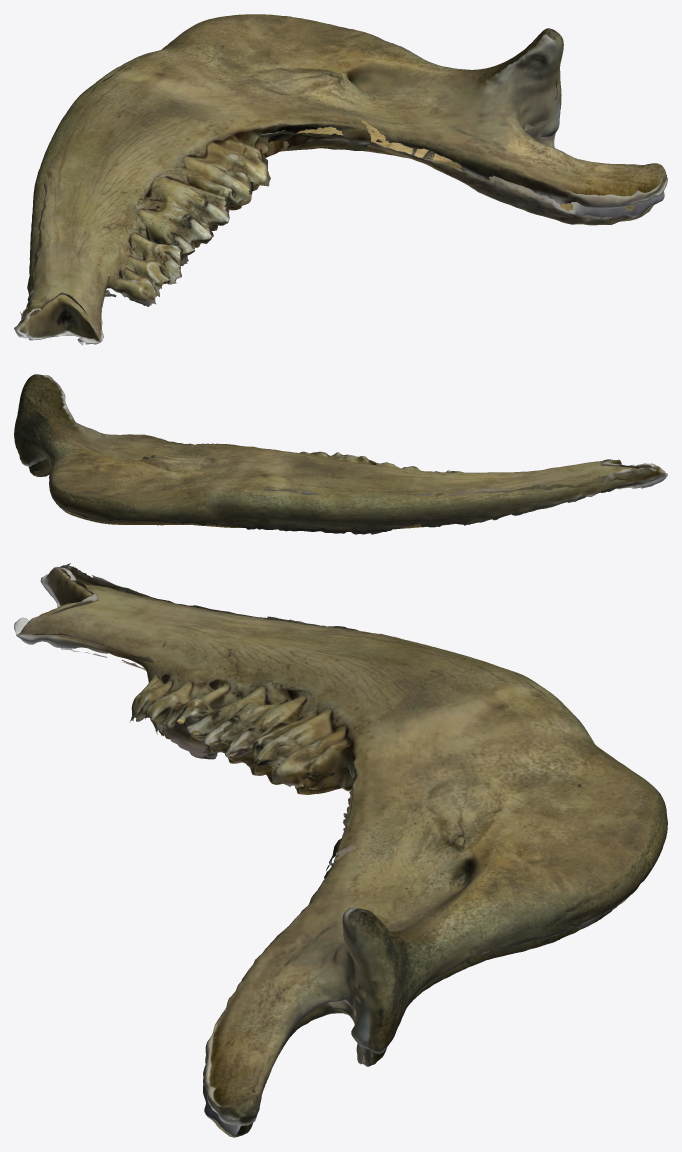
Rendered from mandibula-reconstruct.glb.
The picture shows the model from 3 angles, top to bottom: view 1: azimuth 30°, elevation 25°; view 2: azimuth 150°, elevation 25°; view 3: azimuth 270°, elevation 25°; orthographic projection. The views are drawn at different scales.
Parts seen in each view (by area): view 1: ObjectCapture.001; view 2: ObjectCapture.001; view 3: ObjectCapture.001.
Boxes of the visible parts, box(x1,y1,x2,y2) form: ObjectCapture.001: box(14, 14, 667, 345); ObjectCapture.001: box(14, 374, 667, 534); ObjectCapture.001: box(14, 563, 667, 1137).
Bounding box in the file's own units: 1.05 × 0.2155 × 0.6429.
Materials: 2 (2 with a texture image).
